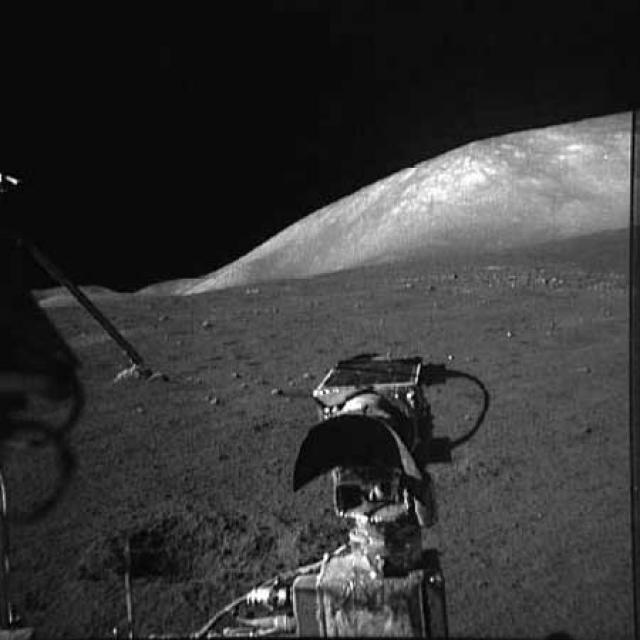artifact: (186, 334, 511, 639), (3, 169, 162, 639)
crater: (74, 494, 304, 605)
